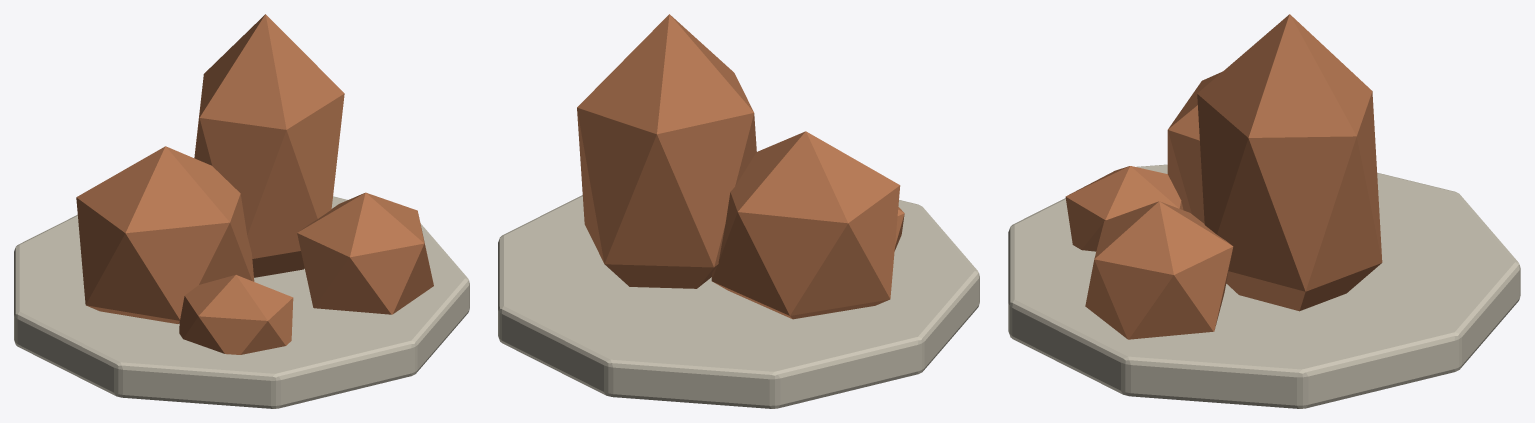
Rendered from prop_resource_deposit.glb.
3 views of the same model, side by side, from view 1: azimuth 30°, elevation 25°; view 2: azimuth 150°, elevation 25°; view 3: azimuth 270°, elevation 25° (orthographic). The views are drawn at different scales.
Parts seen in each view (by area): view 1: deposit_base, ore_chunk.001, ore_chunk, ore_chunk.002, ore_chunk.003; view 2: deposit_base, ore_chunk.001, ore_chunk; view 3: deposit_base, ore_chunk.001, ore_chunk.002, ore_chunk.003, ore_chunk.
Part boxes in pixels (bbox=[...]): deposit_base: bbox=[14, 196, 469, 408]; ore_chunk.001: bbox=[194, 14, 344, 277]; ore_chunk: bbox=[76, 146, 254, 323]; ore_chunk.002: bbox=[297, 192, 433, 314]; ore_chunk.003: bbox=[179, 275, 293, 354]; deposit_base: bbox=[498, 195, 979, 408]; ore_chunk.001: bbox=[577, 14, 756, 288]; ore_chunk: bbox=[711, 131, 900, 319]; deposit_base: bbox=[1008, 164, 1520, 408]; ore_chunk.001: bbox=[1197, 14, 1382, 311]; ore_chunk.002: bbox=[1085, 201, 1233, 339]; ore_chunk.003: bbox=[1065, 166, 1183, 251]; ore_chunk: bbox=[1167, 71, 1222, 223].
Bounding box in the file's own units: 1.43 × 1 × 1.41.
